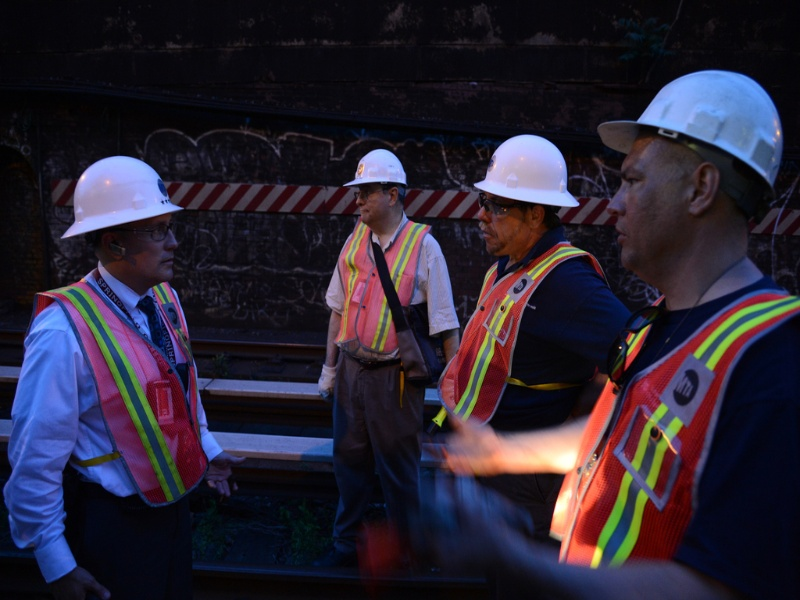Baret: (601, 69, 784, 187), (60, 154, 183, 240), (473, 134, 584, 207), (341, 148, 409, 187)
